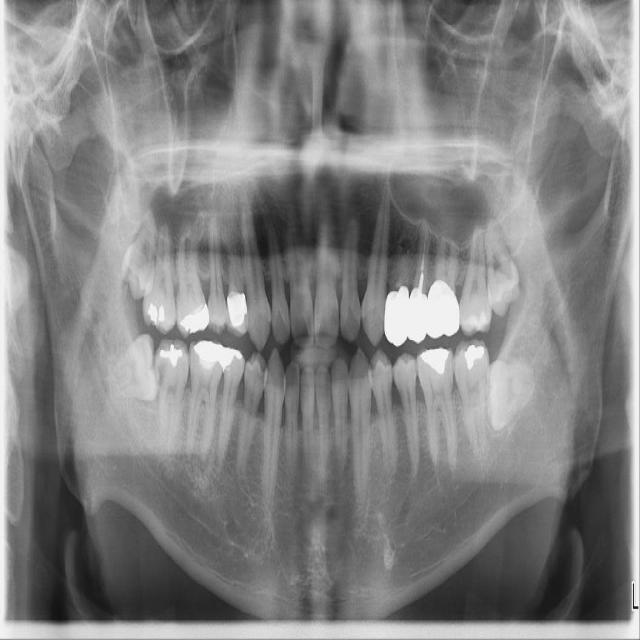Crown: (384, 279, 461, 347)
Filling: (194, 341, 243, 368), (180, 304, 209, 334), (421, 349, 448, 374), (228, 293, 248, 326), (159, 344, 183, 369), (462, 346, 484, 370), (146, 303, 157, 326), (159, 305, 164, 321)
Root Canal Treatment: (421, 229, 426, 275)
impacted tooth: (101, 335, 158, 402), (487, 360, 538, 431), (126, 208, 157, 296)
